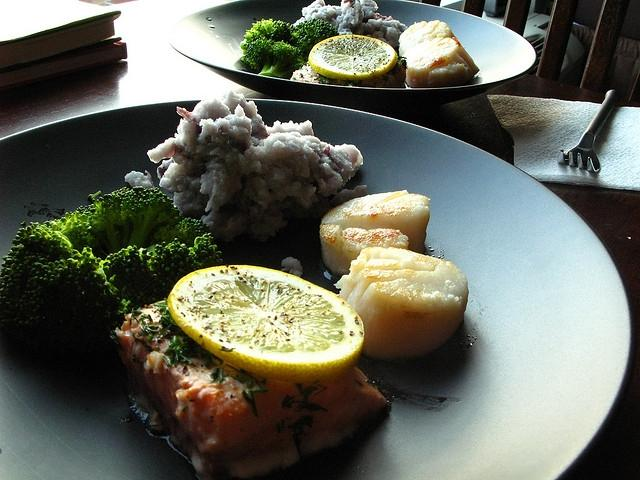broccoli: (103, 233, 223, 314), (240, 18, 294, 55)
lemon: (168, 265, 364, 383), (308, 34, 398, 80)
